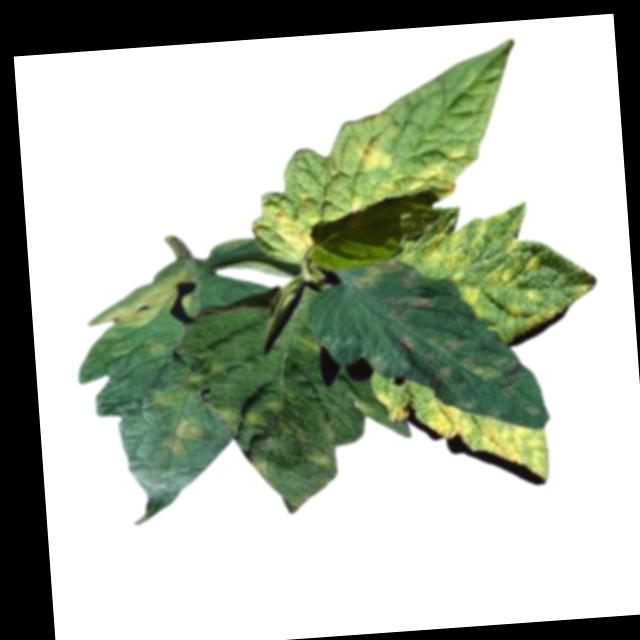Leaf_Mold: (421, 196, 600, 342), (374, 382, 549, 494), (396, 320, 543, 425), (86, 265, 195, 333), (351, 256, 436, 322), (206, 393, 288, 445), (256, 200, 316, 258), (342, 113, 396, 175), (158, 415, 206, 463), (404, 163, 457, 202), (305, 443, 340, 479), (347, 189, 364, 213)
